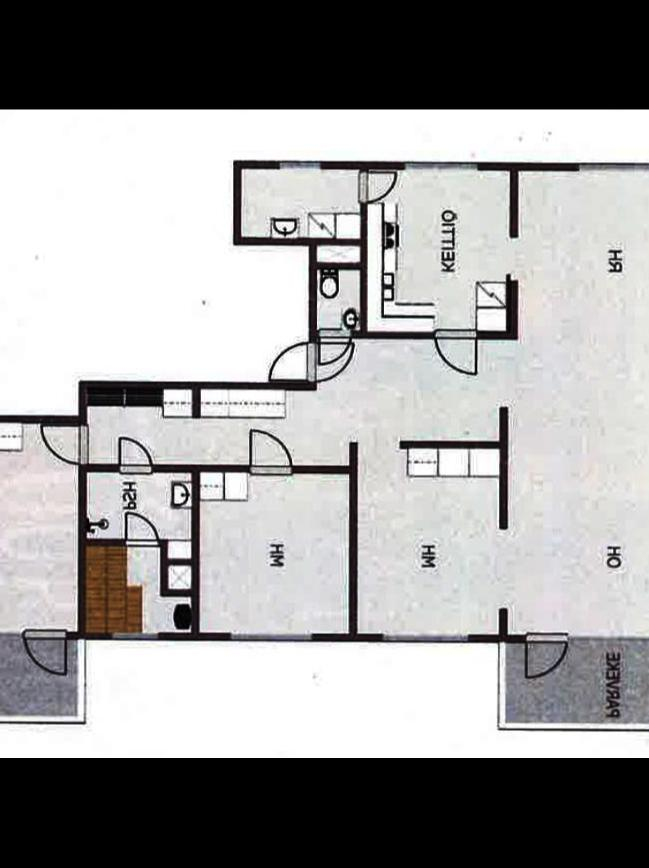door: (17, 622, 70, 680), (514, 629, 568, 682), (432, 324, 484, 378), (37, 423, 91, 469), (245, 427, 292, 476), (268, 340, 316, 384), (308, 344, 354, 384), (114, 435, 157, 475), (356, 164, 398, 204), (316, 325, 356, 364)
window: (372, 629, 476, 650), (221, 628, 319, 648), (560, 629, 649, 647), (395, 158, 487, 174), (572, 158, 649, 177), (274, 157, 332, 176), (110, 630, 168, 646)
